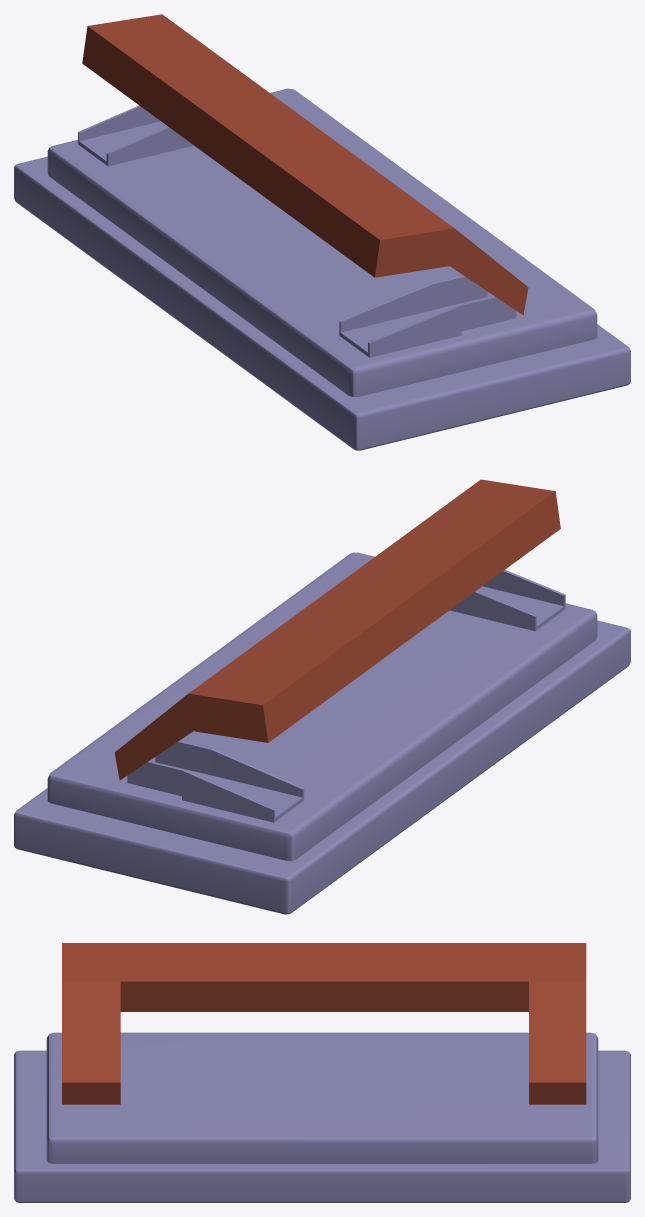
File: HolePuncher 1.fbx
3 renders of one model, top to bottom at view 1: azimuth 30°, elevation 25°; view 2: azimuth 150°, elevation 25°; view 3: azimuth 270°, elevation 25°, orthographic. The views are drawn at different scales.
Visible parts, largest first — view 1: Base, Hittable_Top; view 2: Base, Hittable_Top; view 3: Base, Hittable_Top.
Part boxes in pixels (bbox=[...]): Base: bbox=[14, 88, 630, 450]; Hittable_Top: bbox=[82, 14, 528, 315]; Base: bbox=[14, 552, 630, 914]; Hittable_Top: bbox=[114, 479, 560, 780]; Base: bbox=[14, 1032, 630, 1202]; Hittable_Top: bbox=[62, 943, 586, 1104].
Bounding box in the file's own units: 0.4297 × 0.2688 × 0.9245.
